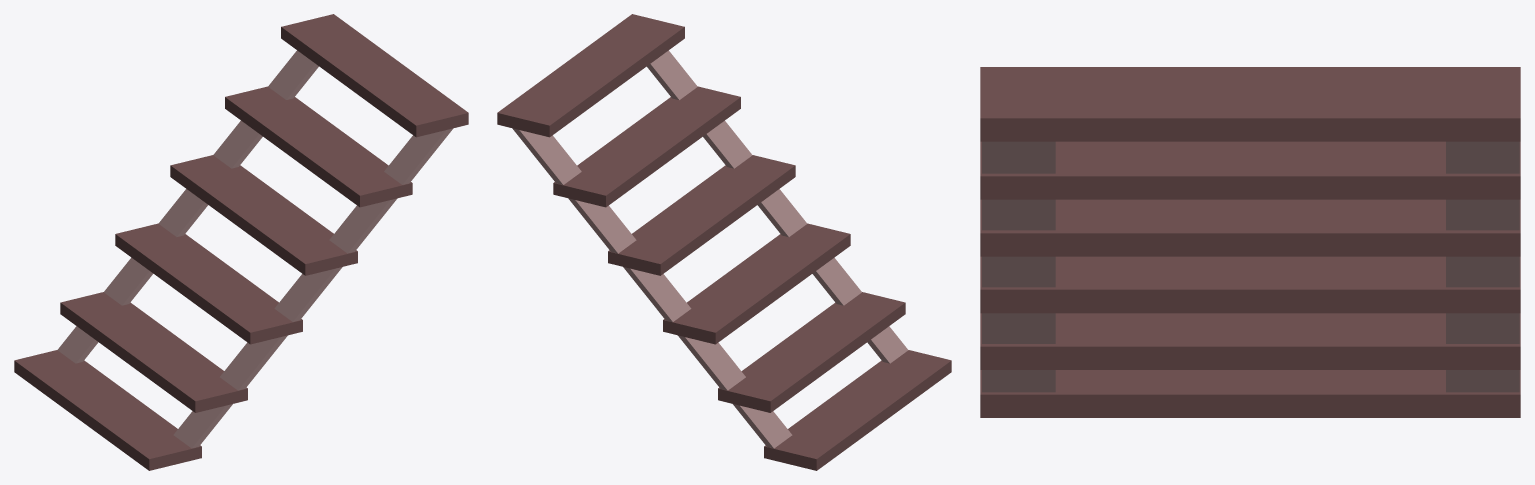
File: stairs.fbx
The picture shows the model from 3 angles, left to right: view 1: azimuth 30°, elevation 25°; view 2: azimuth 150°, elevation 25°; view 3: azimuth 270°, elevation 25°; orthographic projection. The views are drawn at different scales.
Visible parts, largest first — view 1: polySurface2; view 2: polySurface2; view 3: polySurface2.
Boxes of the visible parts, <box> form: polySurface2: <box>14,14,468,470</box>; polySurface2: <box>497,14,951,470</box>; polySurface2: <box>980,67,1520,417</box>.
Bounding box in the file's own units: 243 × 204 × 178.
